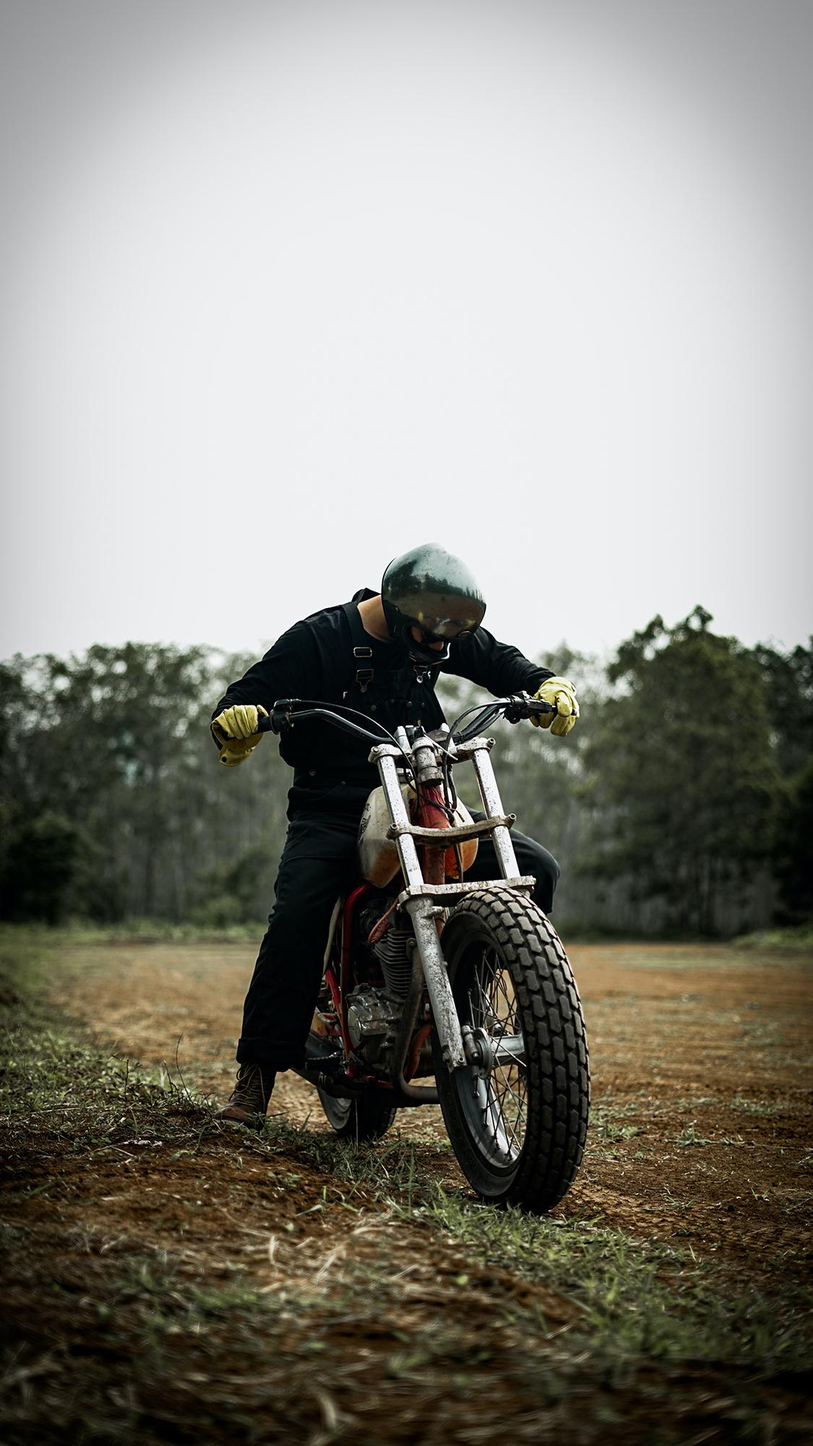helmet: (381, 541, 487, 667)
